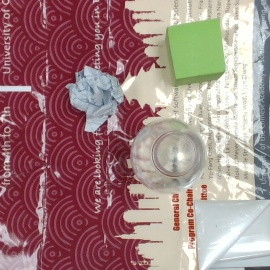bottle: (131, 118, 206, 191)
